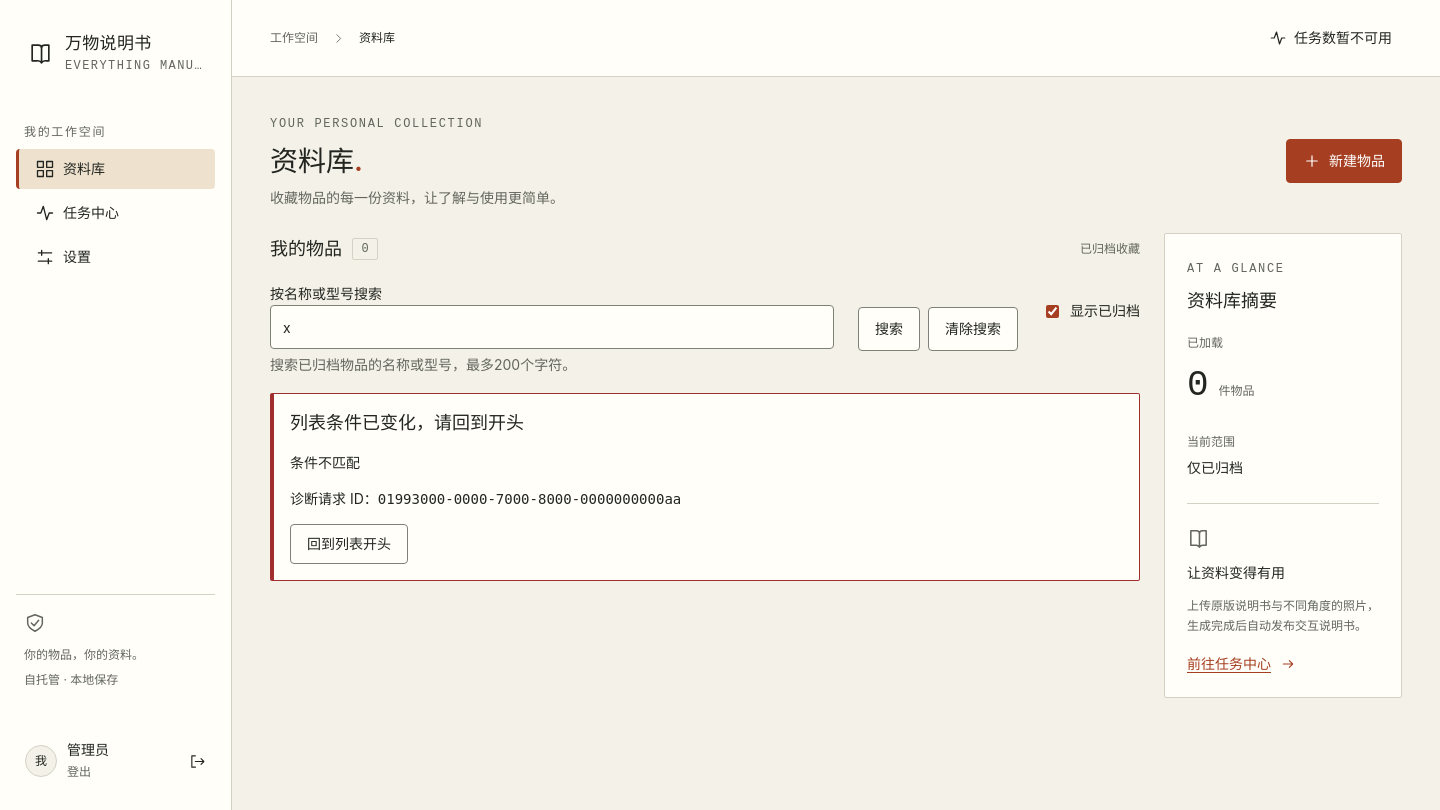
Test: PC05A server search and retained results › offers an explicit reset for a real cursor-field error and clear within empty archived search
Check: the message shows "列表条件已变化，请回到开头", box [290,412,524,433]
Click the button "回到列表开头" at x=349, y=544, box [290,524,408,564]
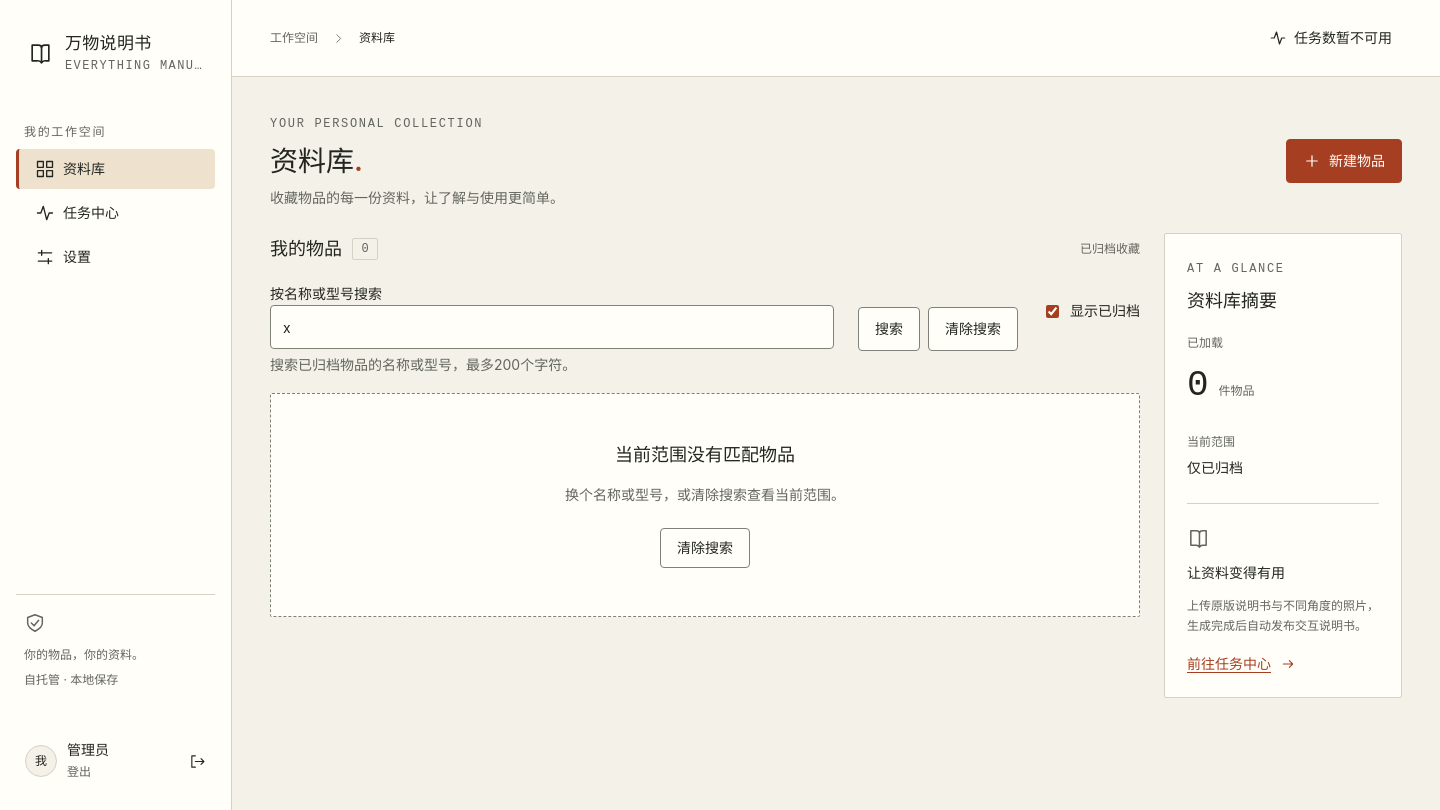
Check: the heading "当前范围没有匹配物品" is shown, box [615,444,795,465]
Click the button "清除搜索" next to "显示已归档" at x=973, y=329, box [928,307,1018,351]
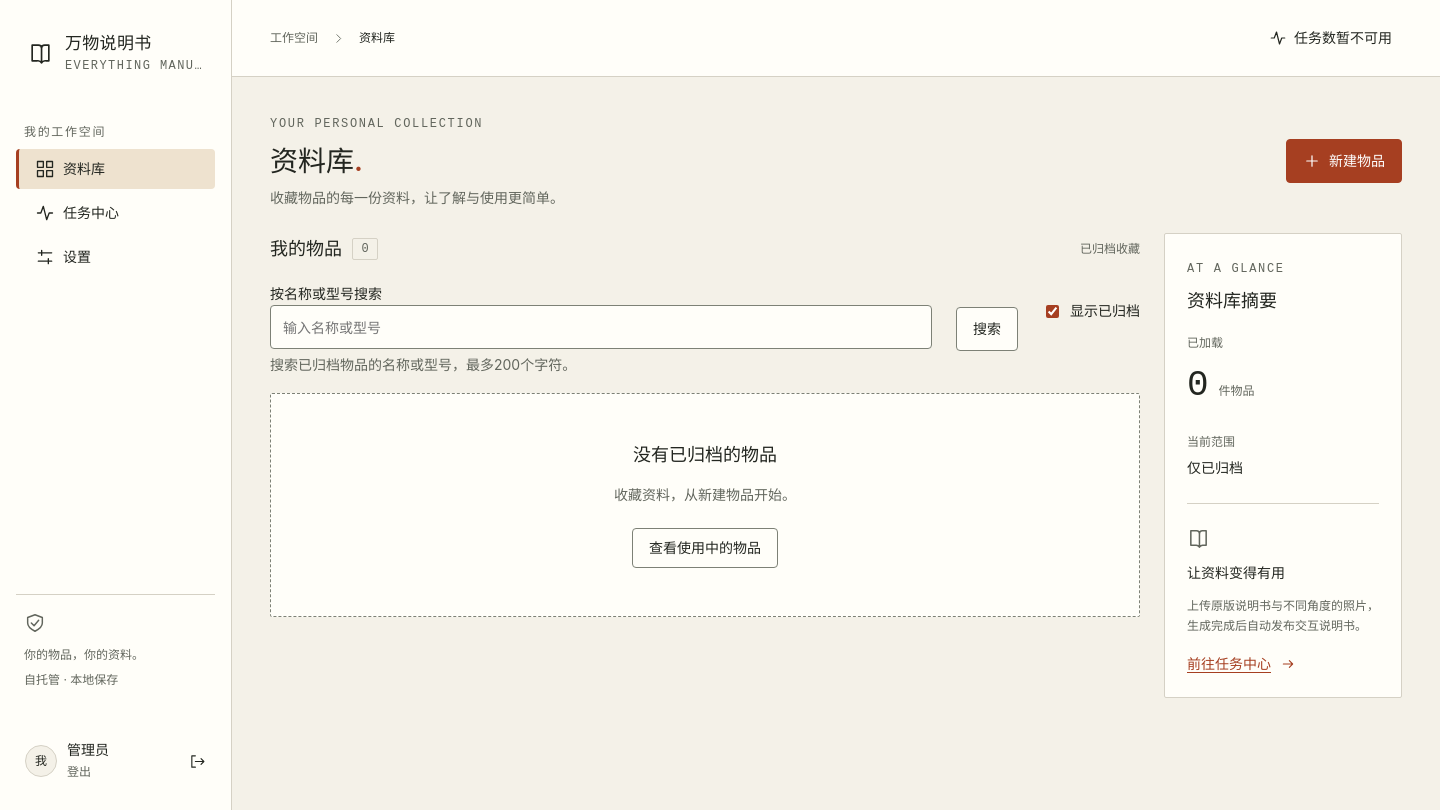
Check: the heading "没有已归档的物品" is shown, box [633,444,777,465]
